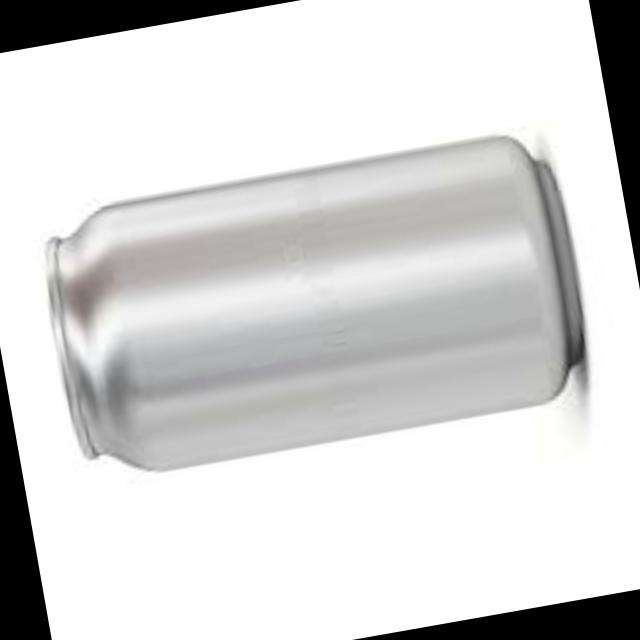metal: (43, 141, 576, 474)
